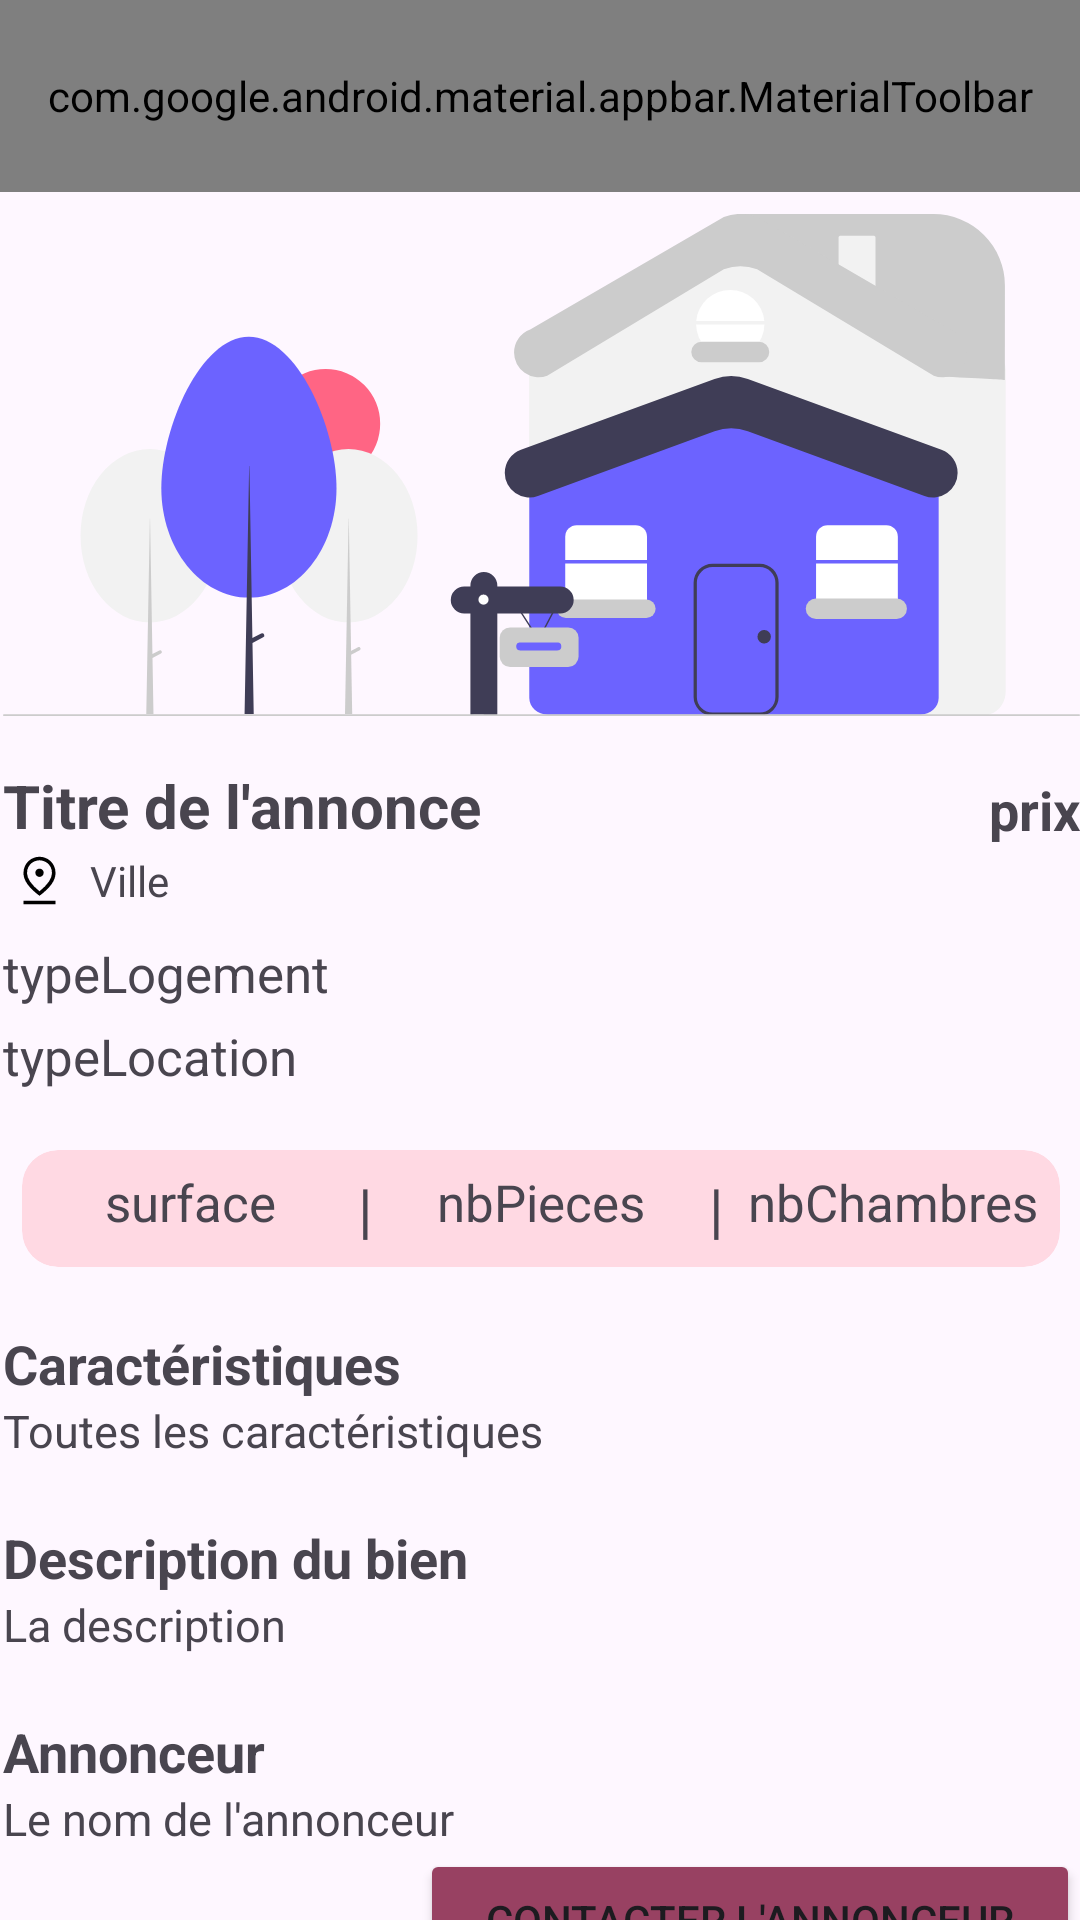

Icons on this 1080*1920 Android screen, each with its box as (x1, y1, x2, y2):
lieu: (23, 856, 56, 905)
